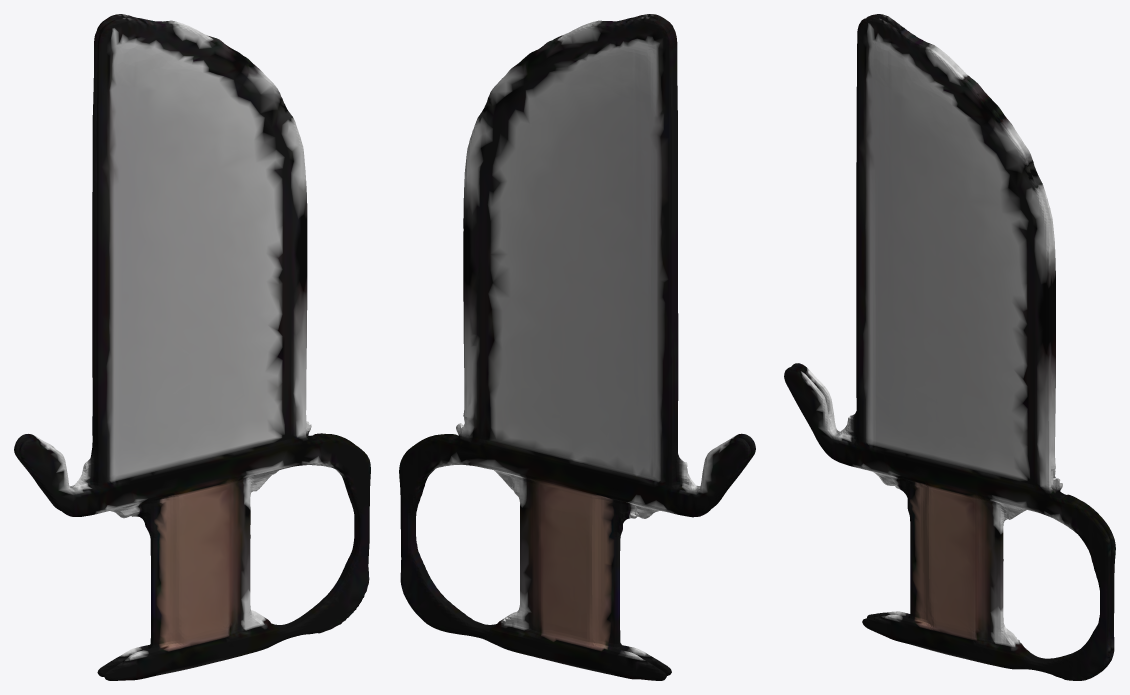
Rendered from butterflysword_2.glb.
The picture shows the model from 3 angles, left to right: view 1: azimuth 30°, elevation 25°; view 2: azimuth 150°, elevation 25°; view 3: azimuth 330°, elevation 25°; orthographic projection. The views are drawn at different scales.
Parts seen in each view (by area): view 1: geometry_0; view 2: geometry_0; view 3: geometry_0.
Part boxes in pixels (<box>): geometry_0: <box>14,14,370,680</box>; geometry_0: <box>399,14,755,680</box>; geometry_0: <box>784,14,1115,680</box>.
Bounding box in the file's own units: 0.4375 × 0.7934 × 0.0197.
